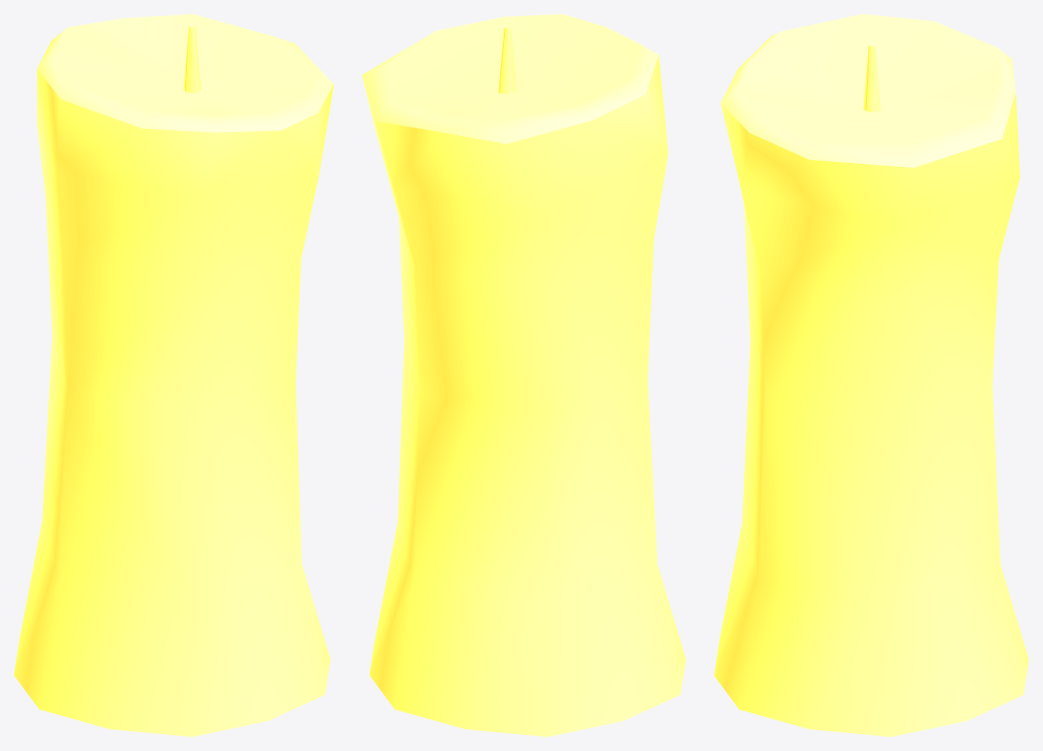
The model's file is Candle_white_1.fbx.
3 views of the same model, side by side, from view 1: azimuth 30°, elevation 25°; view 2: azimuth 150°, elevation 25°; view 3: azimuth 270°, elevation 25° (orthographic).
Visible parts, largest first — view 1: Candle_white_1_LOD0; view 2: Candle_white_1_LOD0; view 3: Candle_white_1_LOD0.
Part boxes in pixels (x1=…): Candle_white_1_LOD0: x1=14, y1=14, x2=333, y2=736; Candle_white_1_LOD0: x1=362, y1=14, x2=685, y2=736; Candle_white_1_LOD0: x1=714, y1=14, x2=1028, y2=736.
Size of what is drawn, in the model's own units: 0.0581 by 0.1228 by 0.0554.
